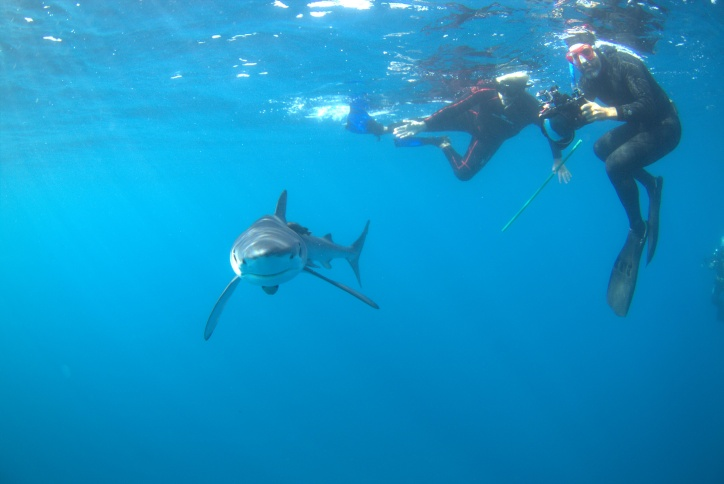Azul: (156, 170, 404, 348)
